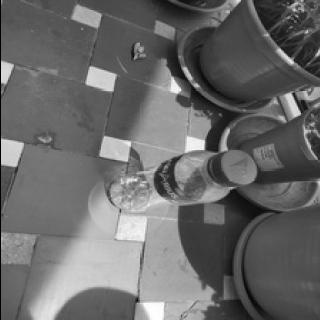plastic_bottles: (100, 148, 256, 212)
